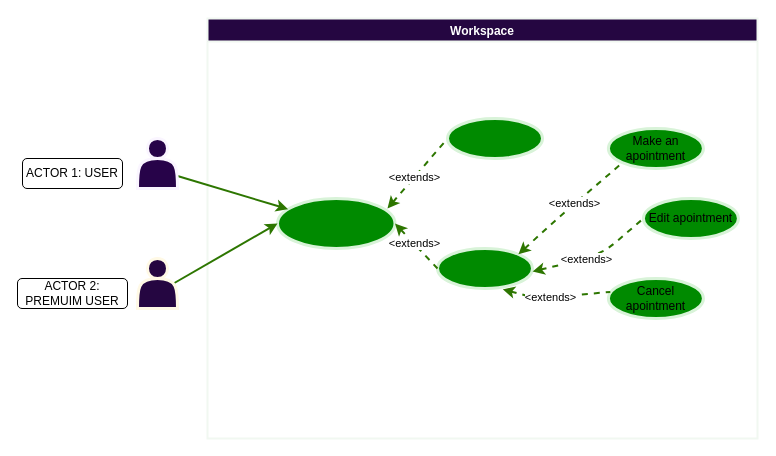
This 776x456 diagram has some shape labels left out. Here are the shapes that lost their labels. From the top down, the centre of each, then its label:
the point at 495,138: Filter trough workspace
the point at 336,223: List workspaces
the point at 485,268: Access a workspace
